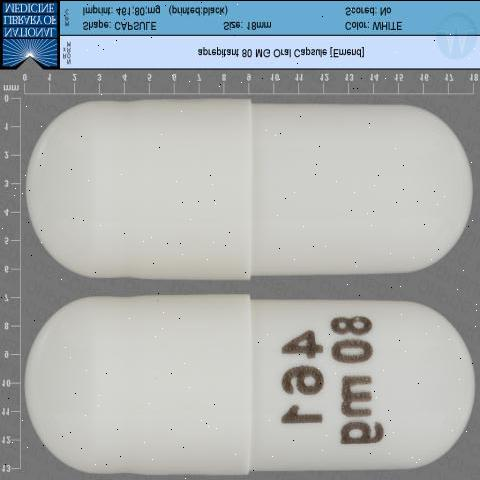Pill: (18, 75, 480, 289), (19, 289, 479, 480)
